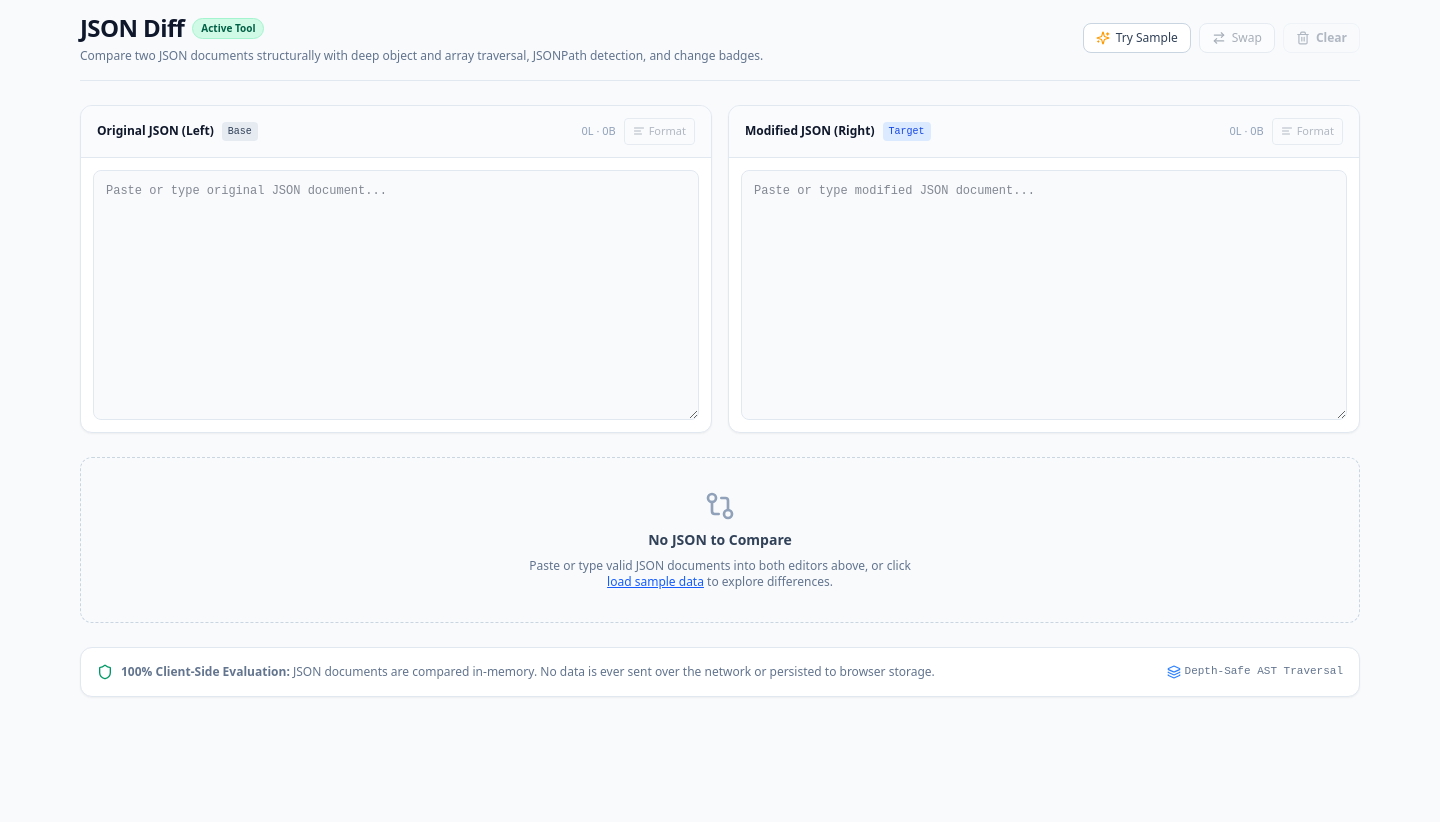
Scenario: JsonDiff Component › clears all inputs, state, and results when "Clear" is clicked
This screenshot has width=1440, height=822.
Click the button "Try Sample".
click(1137, 38)  # box [1083, 23, 1191, 53]
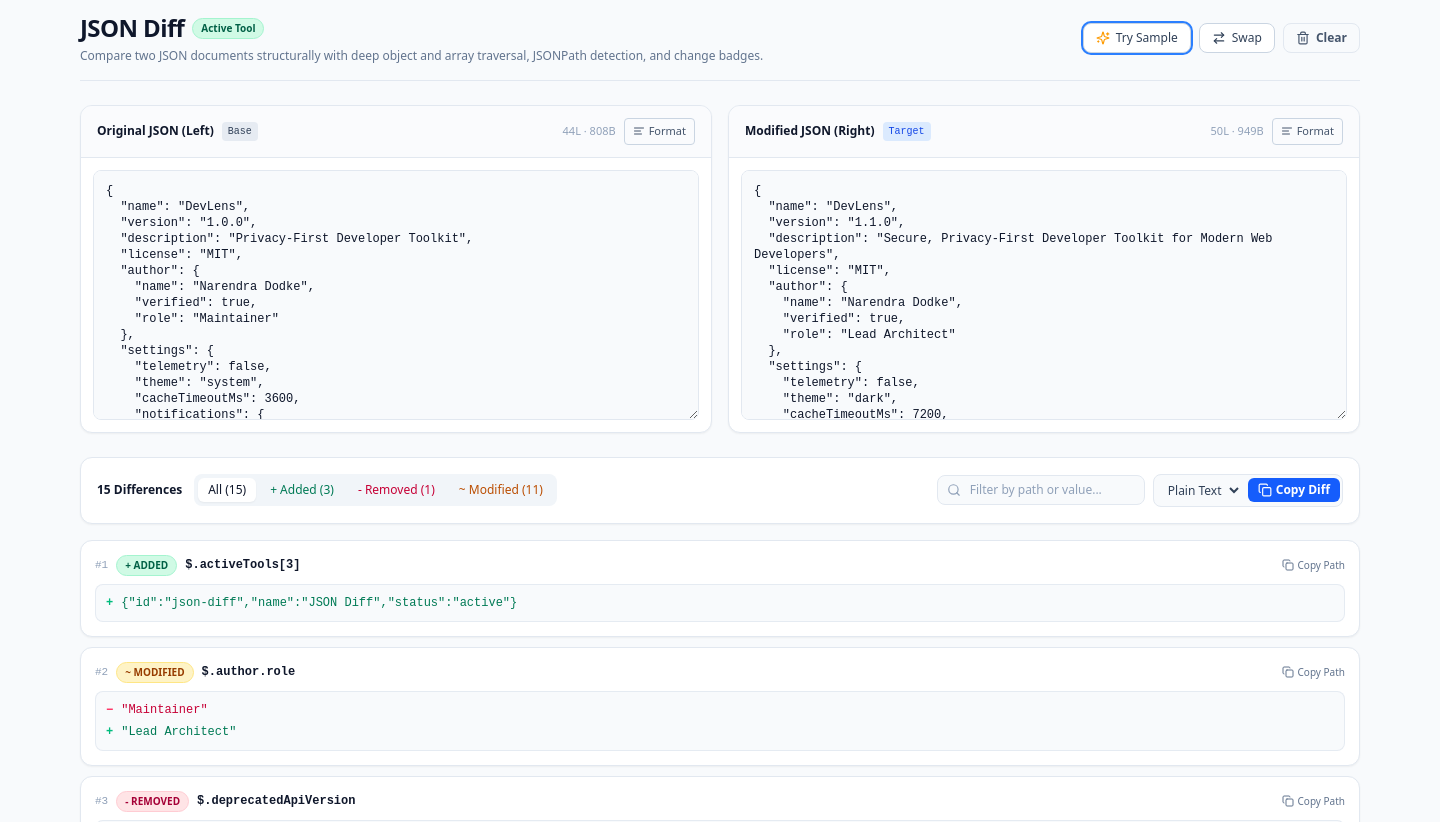
Now the text "15 Differences" is shown, box [97, 482, 182, 498]
Now the button "Clear" is enabled
Click the button "Clear".
click(1321, 38)  # box [1283, 23, 1360, 53]
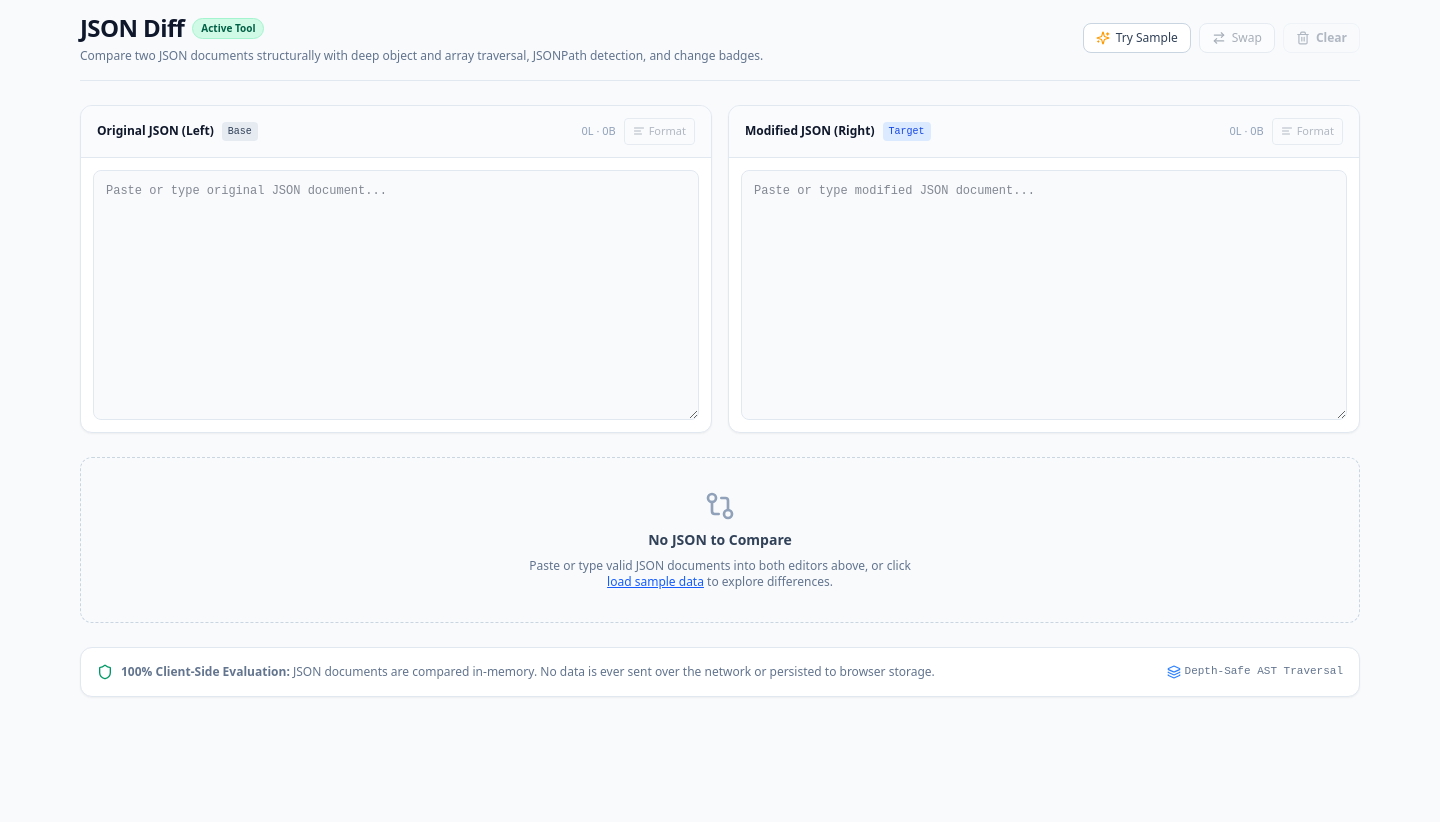
Now the text box labelled "Original JSON (Left)" is empty, box [93, 170, 699, 420]
Now the text box labelled "Modified JSON (Right)" is empty, box [741, 170, 1347, 420]
Now the button "Clear" is disabled, box [1283, 23, 1360, 53]
